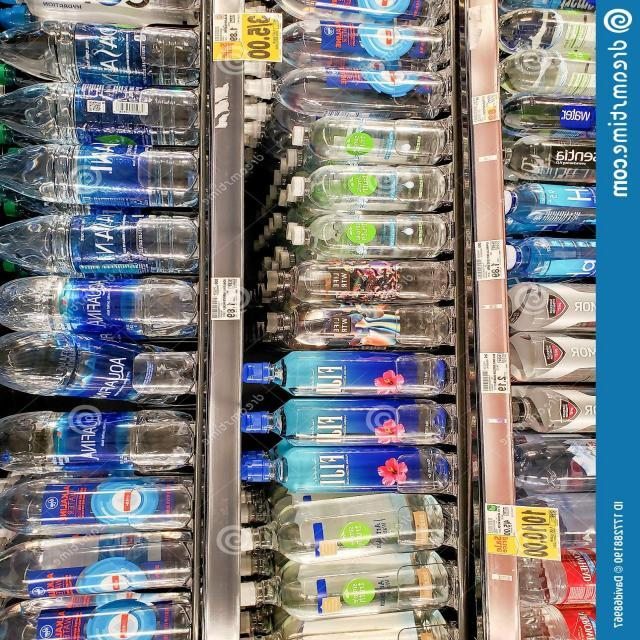plastic: (0, 329, 219, 407), (0, 410, 219, 476), (0, 269, 216, 326)
